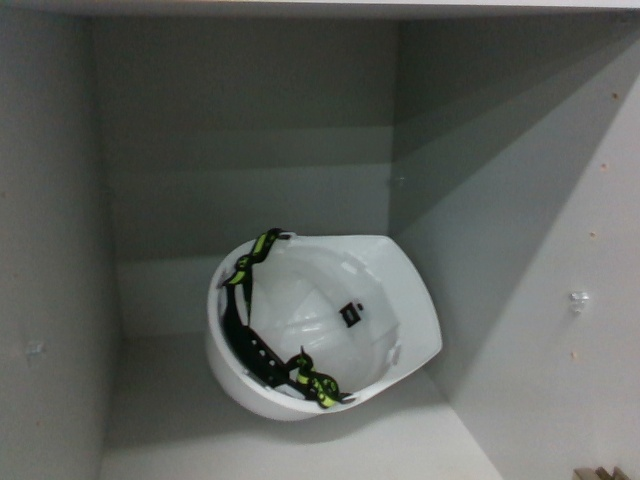helmet: (197, 228, 451, 426)
